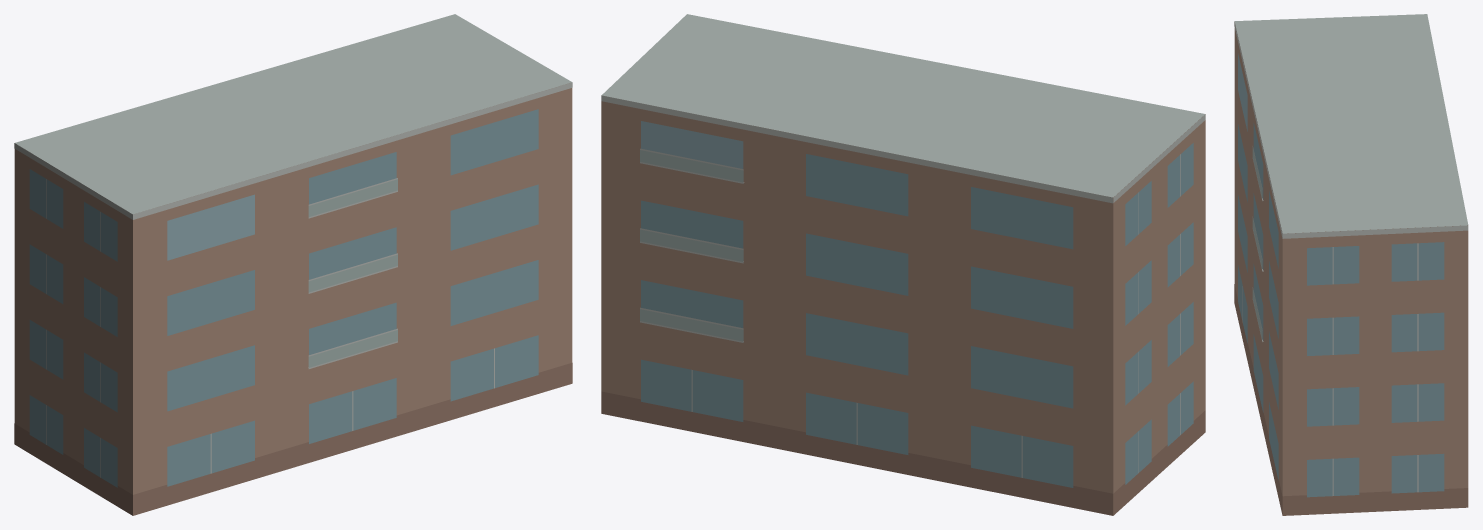
The model's file is survey-upis-32653394.glb.
3 renders of one model, left to right at view 1: azimuth 30°, elevation 25°; view 2: azimuth 150°, elevation 25°; view 3: azimuth 270°, elevation 25°, orthographic. The views are drawn at different scales.
Parts seen in each view (by area): view 1: survey-upis-32653394.tmp; view 2: survey-upis-32653394.tmp; view 3: survey-upis-32653394.tmp.
Boxes of the visible parts, box(x1,y1,x2,y2) form: survey-upis-32653394.tmp: box(14, 14, 572, 515); survey-upis-32653394.tmp: box(601, 14, 1205, 515); survey-upis-32653394.tmp: box(1234, 14, 1468, 515).
Size of the model in its own units: 22.21 by 13.3 by 10.
